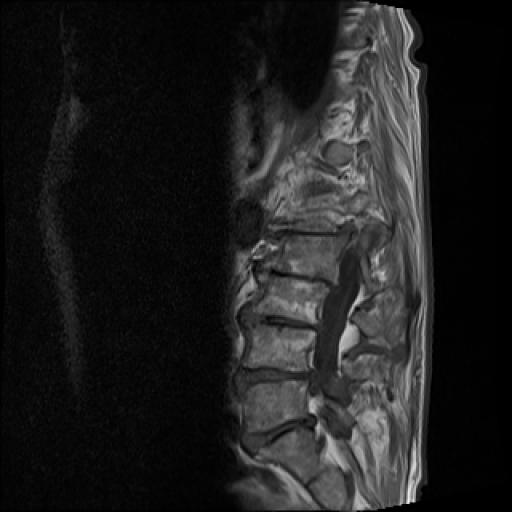L2: (271, 233, 346, 284)
L3: (257, 274, 329, 324)
L4: (242, 323, 316, 371)
L5: (242, 380, 309, 431)
S1: (256, 428, 319, 484)
